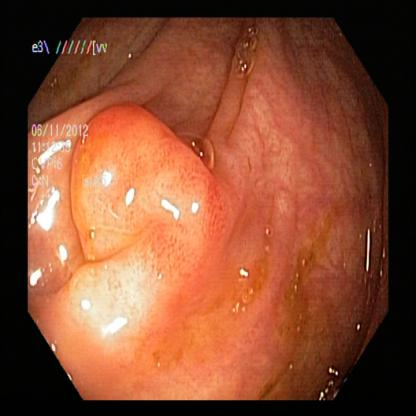Labels: (27, 113, 86, 215), (27, 23, 122, 74)
Polyps: (76, 110, 239, 265)
